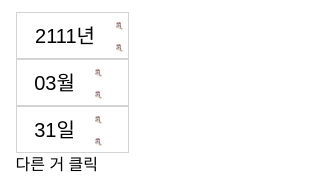
Test: 인풋끼리 시간 연동 테스트 › 월 증감 버튼을 눌러서 2월로 내리면 28일로 바뀌어야 함
Expected: the 3rd field showing "31일" is shown, [16, 107, 92, 152]
Click the button with test id "startmonth_down": (98, 94) [92, 88, 102, 98]
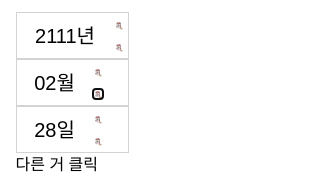
Expected: the 3rd field showing "28일" is shown, [16, 107, 92, 152]
